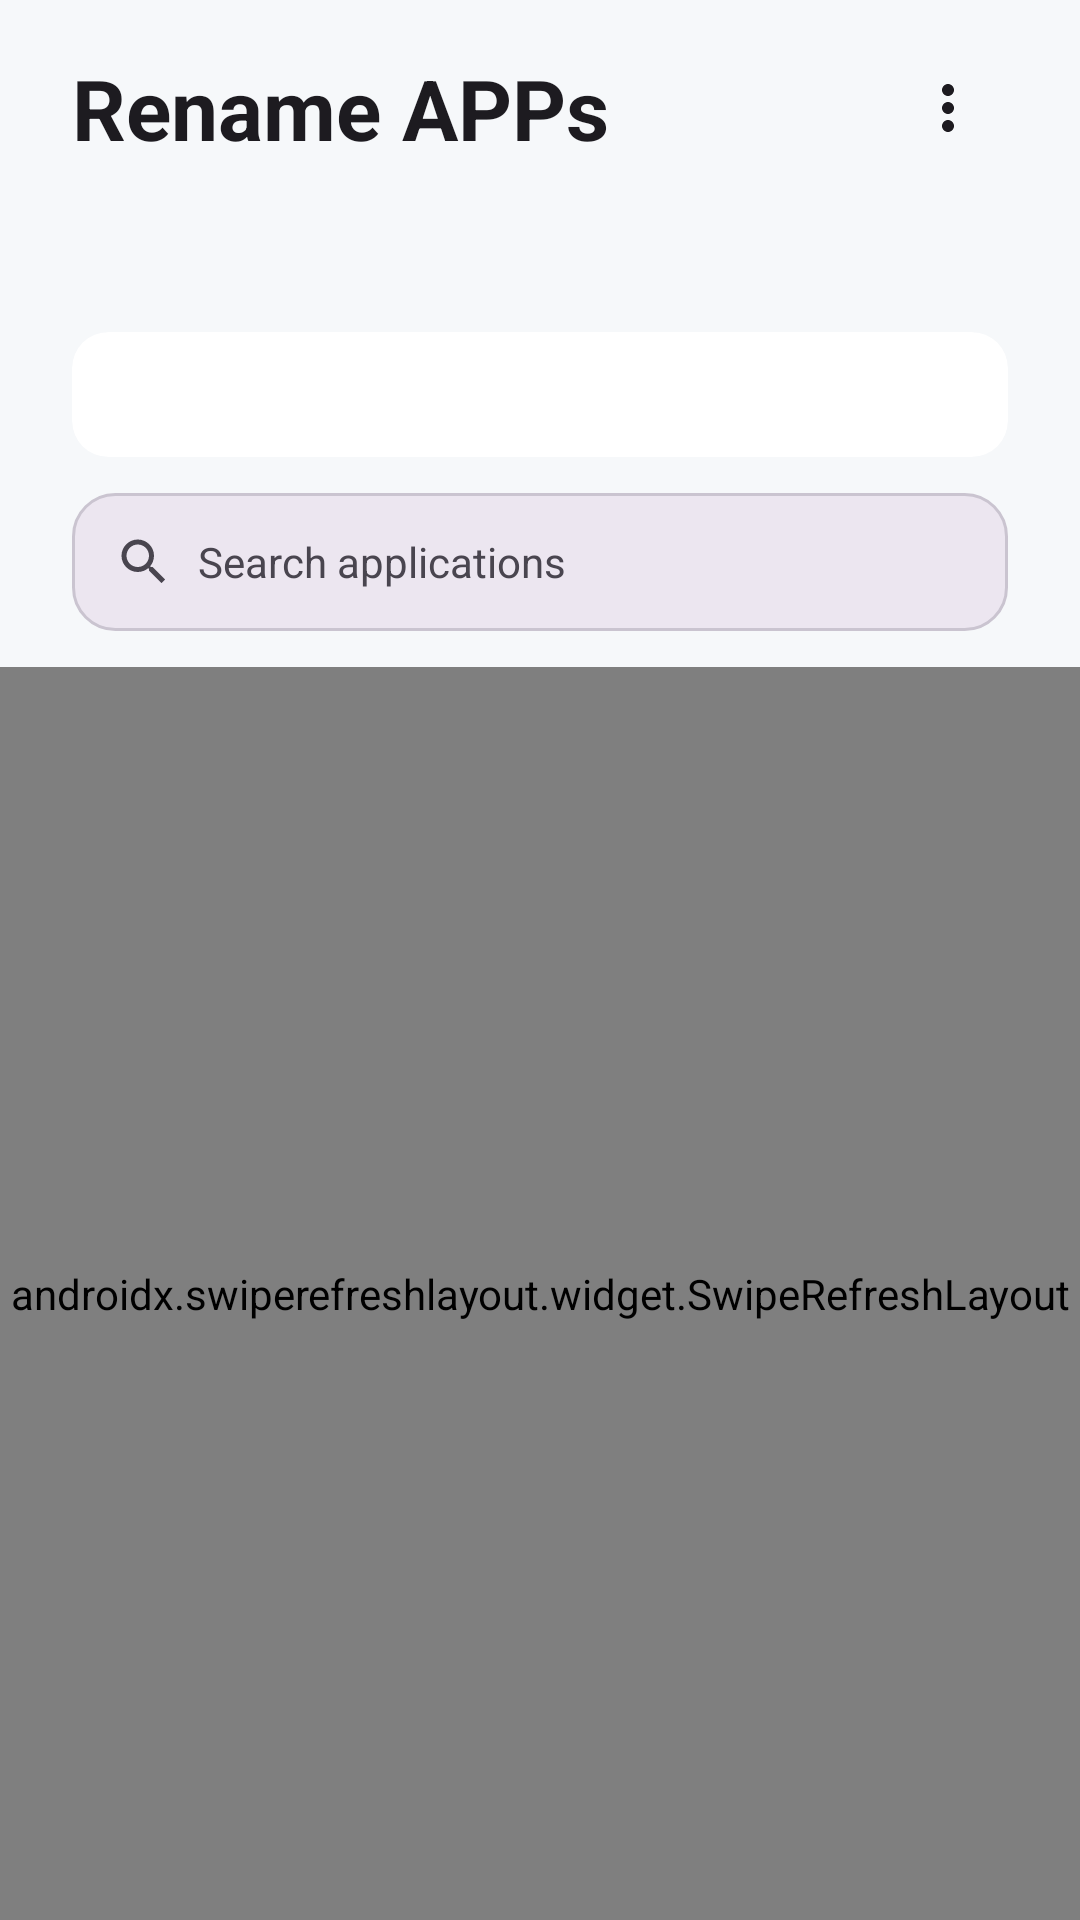

Icon click points for this 1080x1920 phone screenshot, format point (x, y):
More: point (948, 108)
